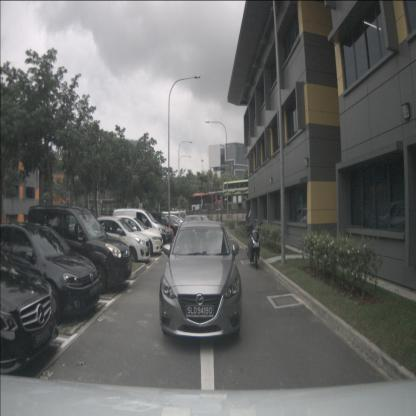human-pedestrian-adult: (216, 212, 219, 226), (210, 213, 213, 227), (207, 213, 209, 225), (220, 213, 222, 225)
vehicle-bus-rigid: (222, 179, 259, 211), (192, 191, 223, 212)
vehicle-car: (0, 222, 101, 322), (159, 219, 242, 340), (27, 203, 132, 294), (0, 243, 59, 378), (86, 215, 150, 264), (97, 214, 164, 256), (112, 207, 166, 247), (378, 198, 412, 231), (145, 212, 179, 237), (388, 204, 415, 232), (182, 214, 205, 244), (294, 207, 312, 223)
vehicle-motorcycle: (246, 221, 262, 269)
vehicle-truck: (162, 210, 187, 230)
